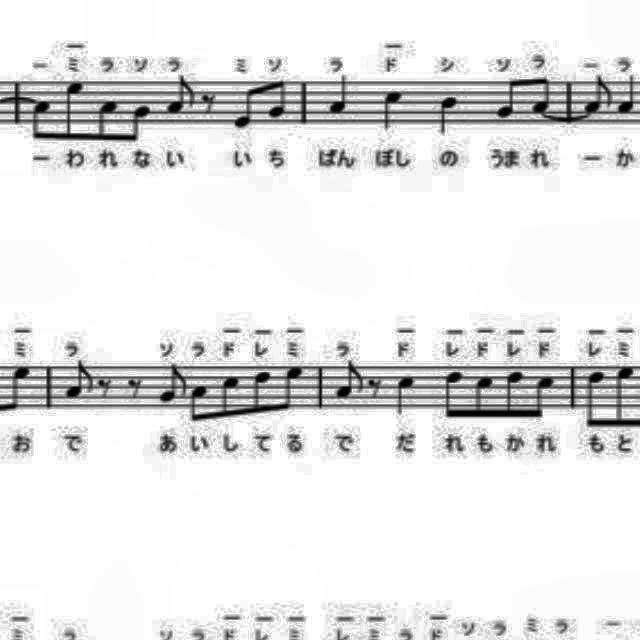Eighth-note: (328, 357, 368, 409), (161, 75, 201, 122), (5, 362, 37, 418), (489, 74, 526, 122), (63, 78, 89, 146), (580, 71, 616, 117), (228, 79, 256, 137), (154, 362, 190, 406), (614, 362, 636, 431), (63, 358, 97, 402), (584, 370, 608, 432), (264, 75, 292, 127), (216, 373, 244, 423), (281, 362, 305, 418), (440, 367, 464, 423), (533, 369, 557, 423), (30, 94, 54, 146), (128, 102, 156, 146), (504, 364, 526, 420), (251, 366, 275, 416), (96, 97, 120, 145), (528, 72, 554, 116), (186, 380, 210, 426), (472, 373, 494, 422)
Eighth-rest: (196, 81, 220, 119), (122, 368, 146, 406), (365, 372, 387, 408), (92, 371, 116, 403)
Quarter-note: (322, 70, 353, 121), (391, 372, 419, 424), (380, 85, 406, 133), (436, 92, 460, 136), (616, 72, 636, 120)
